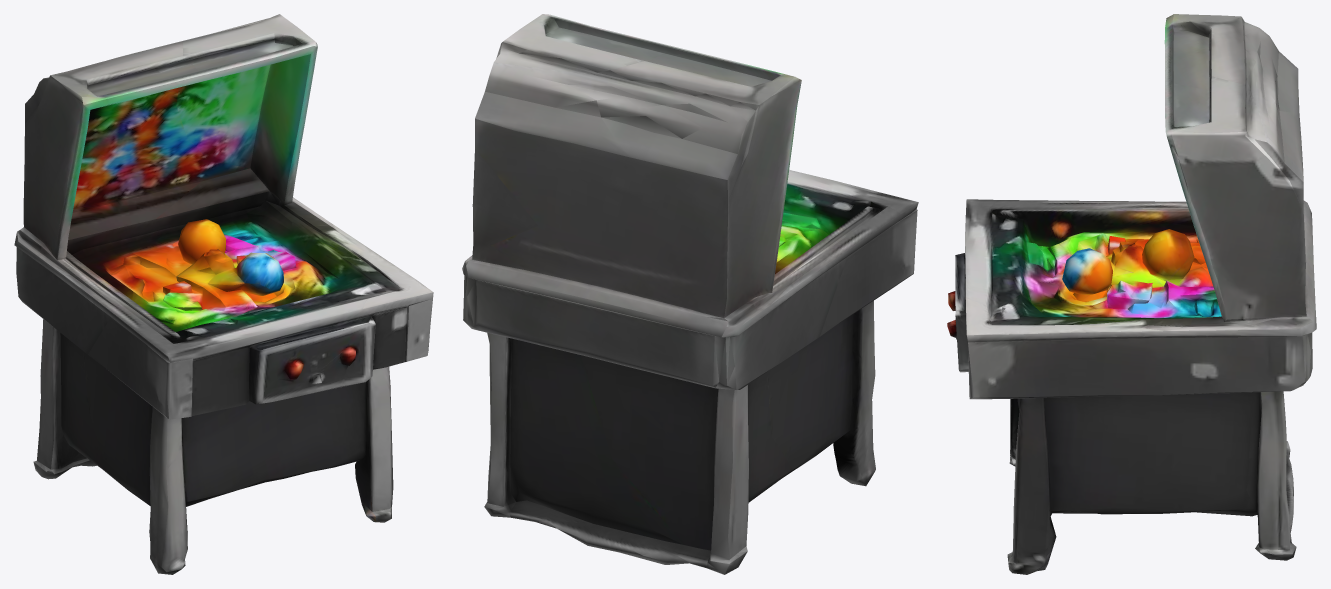
Rendered from m2BumperPost.glb.
3 views of the same model, side by side, from view 1: azimuth 30°, elevation 25°; view 2: azimuth 150°, elevation 25°; view 3: azimuth 270°, elevation 25° (orthographic). The views are drawn at different scales.
Visible parts, largest first — view 1: model; view 2: model; view 3: model.
Part boxes in pixels (box(x1,y1,x2,y2)): model: box(14, 14, 433, 574); model: box(462, 14, 918, 574); model: box(947, 14, 1316, 574).
Bounding box in the file's own units: 1.23 × 1.9 × 1.42.
Materials: 1 (1 with a texture image).
